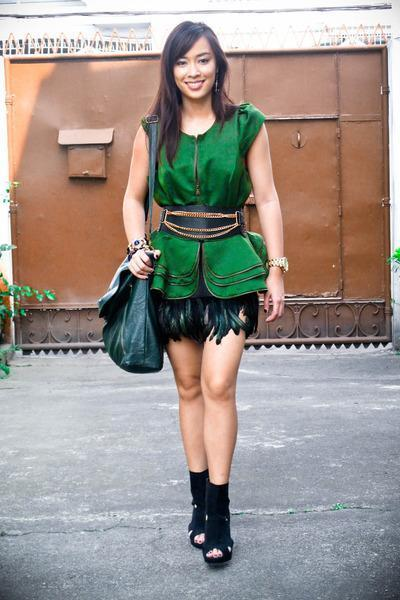bag: (84, 253, 171, 373)
shirt: (141, 110, 274, 297), (156, 197, 245, 240)
shoe: (188, 469, 233, 562)
skirt: (146, 279, 272, 347)
